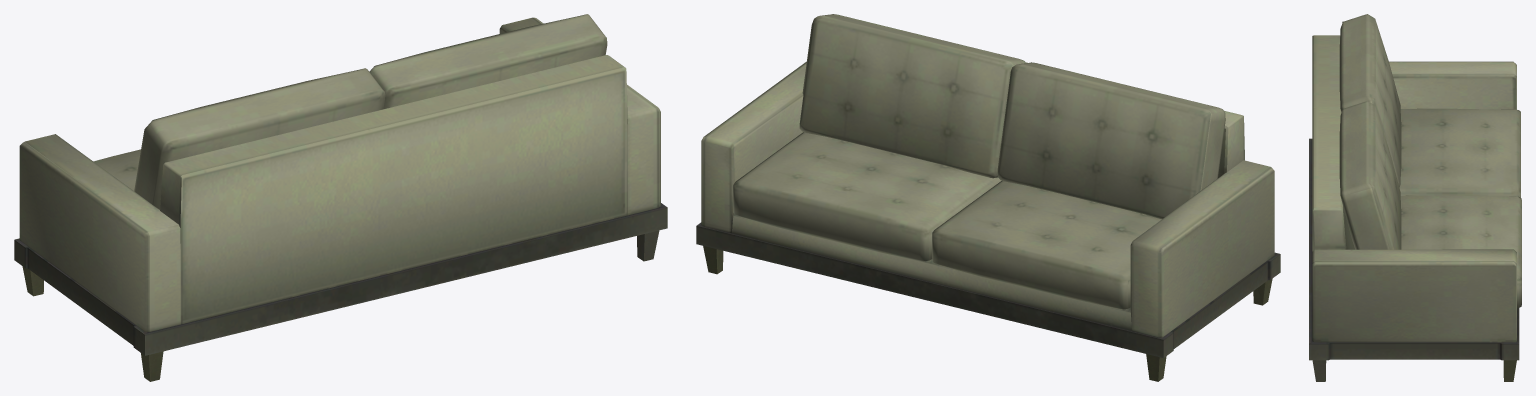
Rendered from Couch.gltf.
3 renders of one model, left to right at view 1: azimuth 30°, elevation 25°; view 2: azimuth 150°, elevation 25°; view 3: azimuth 270°, elevation 25°, orthographic. The views are drawn at different scales.
Parts seen in each view (by area): view 1: subcouch; view 2: subcouch; view 3: subcouch.
Boxes of the visible parts, box(x1,y1,x2,y2) form: subcouch: box(14, 14, 667, 381); subcouch: box(696, 14, 1280, 381); subcouch: box(1309, 14, 1521, 381).
Size of the model in its own units: 161 by 67.33 by 70.45.
1 material, 1 textured.
